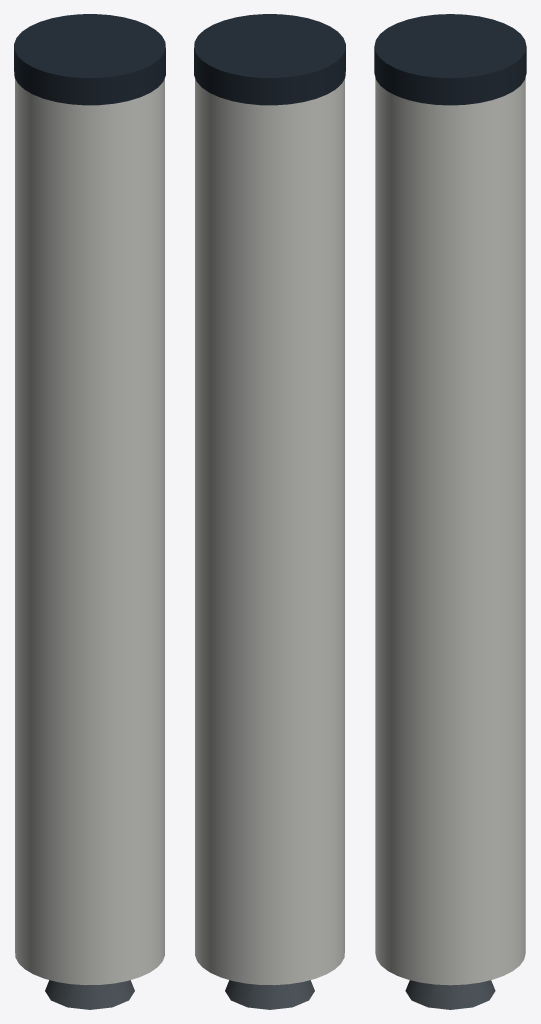
Rendered from thor-stage-1.glb.
The picture shows the model from 3 angles, left to right: view 1: azimuth 30°, elevation 25°; view 2: azimuth 150°, elevation 25°; view 3: azimuth 270°, elevation 25°; orthographic projection.
Parts seen in each view (by area): view 1: body-0, interstage-0, engine-0-0; view 2: body-0, interstage-0, engine-0-0; view 3: body-0, interstage-0, engine-0-0.
Boxes of the visible parts, x1,y1,x2,y2 form: body-0: (15,78,164,985); interstage-0: (14,14,165,105); engine-0-0: (45,980,134,1009); body-0: (195,78,344,985); interstage-0: (194,14,345,105); engine-0-0: (225,980,314,1009); body-0: (375,78,525,985); interstage-0: (374,14,526,105); engine-0-0: (405,980,495,1009).
Size of the model in its own units: 2.47 by 16.92 by 2.47.
